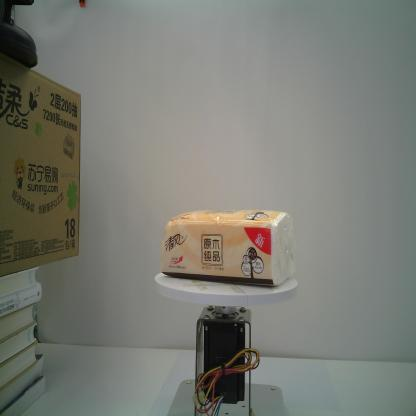Tissue: (158, 208, 298, 288)
